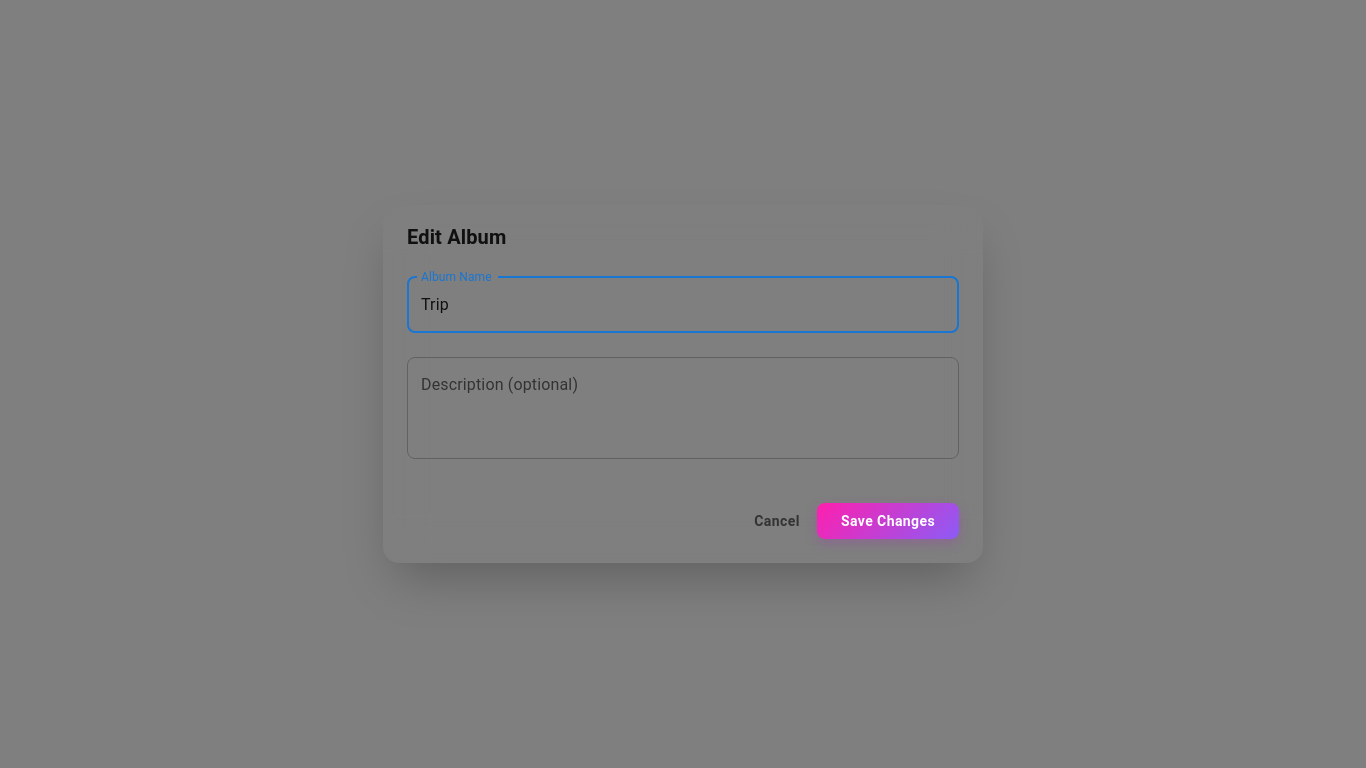
Test case: shows a validation error and does not save when the name is blank
Clear the field showing "Trip": (683, 305) [407,277,959,333]
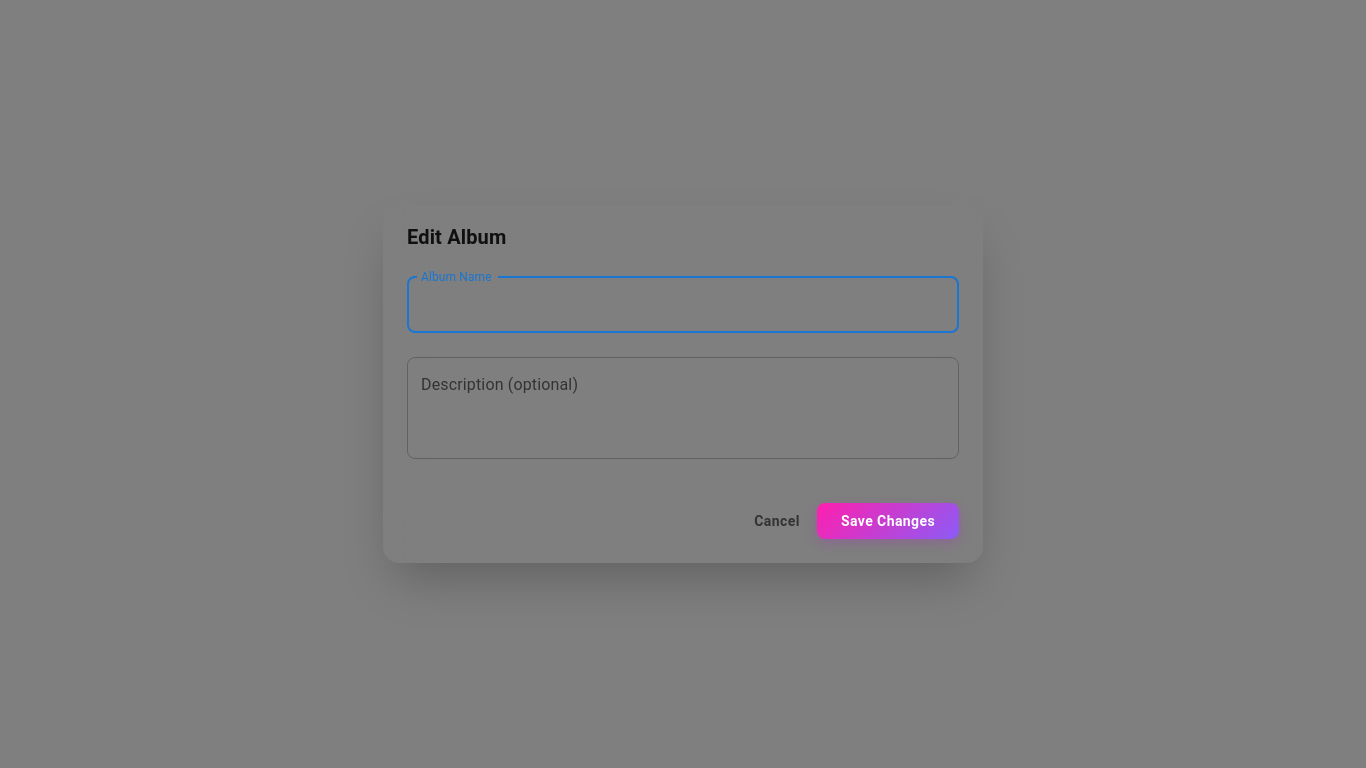
Click the button "Save Changes": (888, 521) [817,503,959,539]
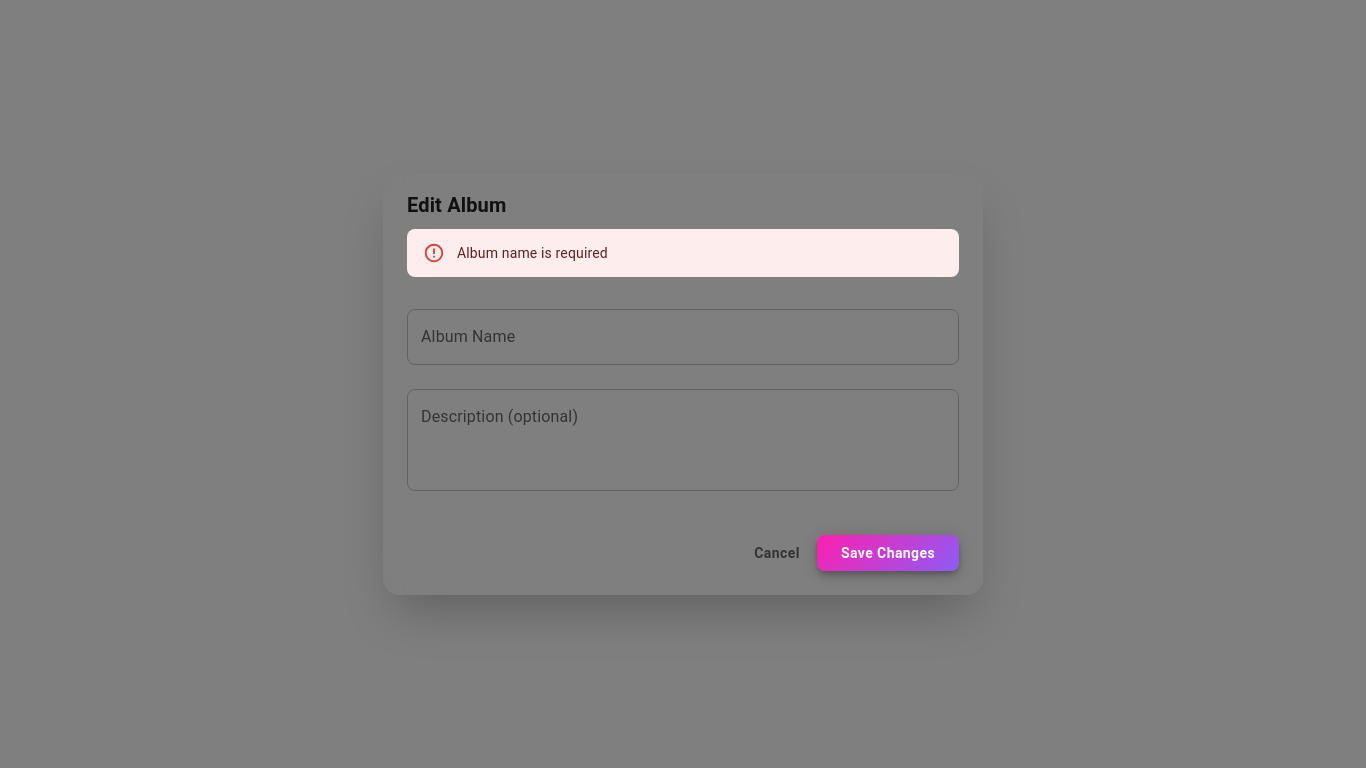
Now the text "Album name is required" is shown, box [457,245,608,261]
